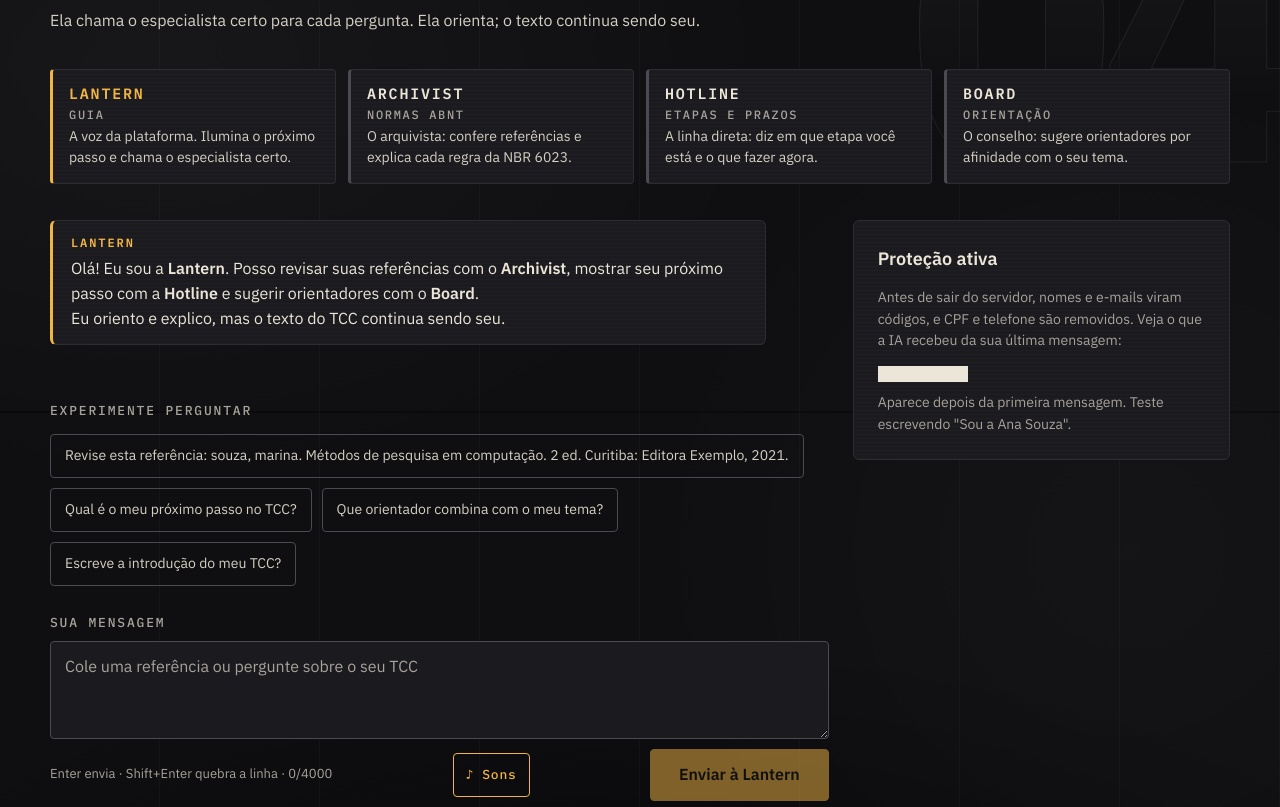
Test: Tela da Lantern › se o servidor responder que a IA não está configurada, passa para o modo offline
(page scrolled)
Type "oi" into the text box labelled "Sua mensagem" at (439, 690), box [50,640,829,738]
Then press Enter
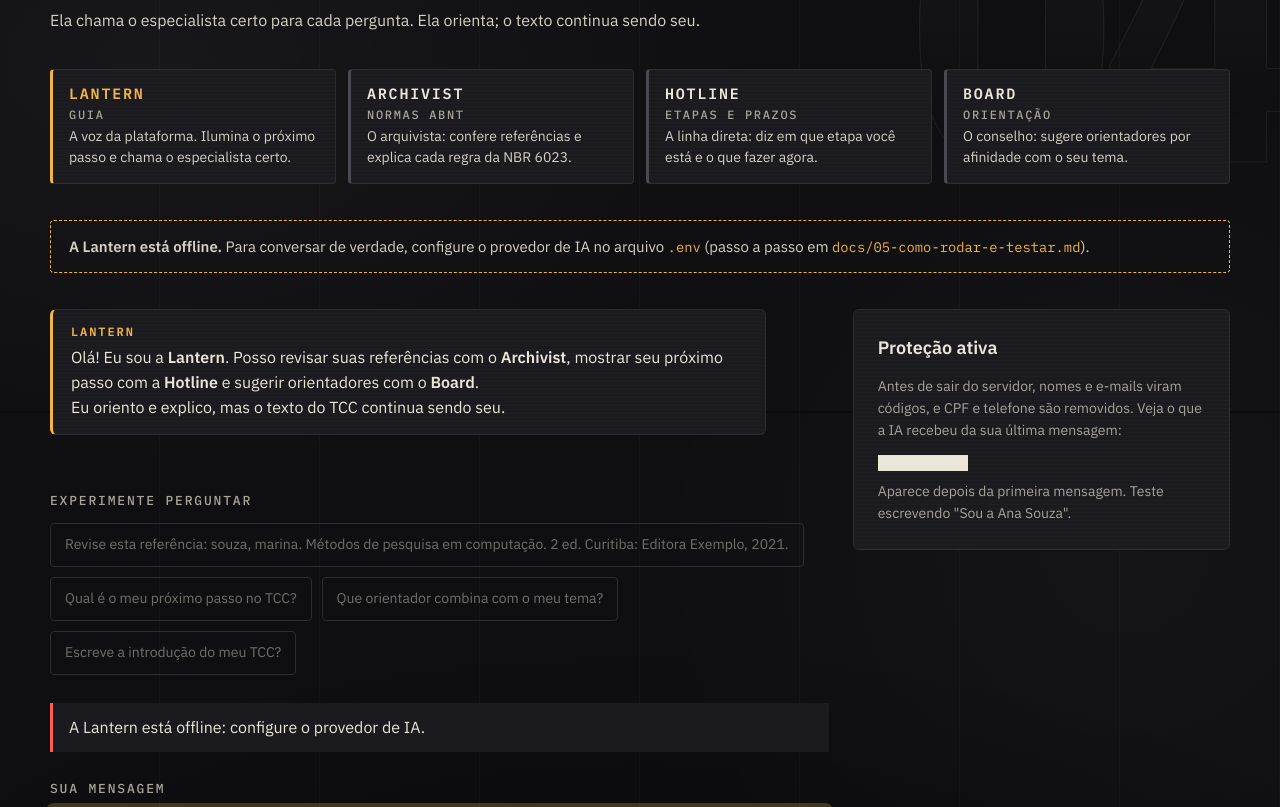
expect the text "A Lantern está offline." is shown: met, box [69,237,222,256]
